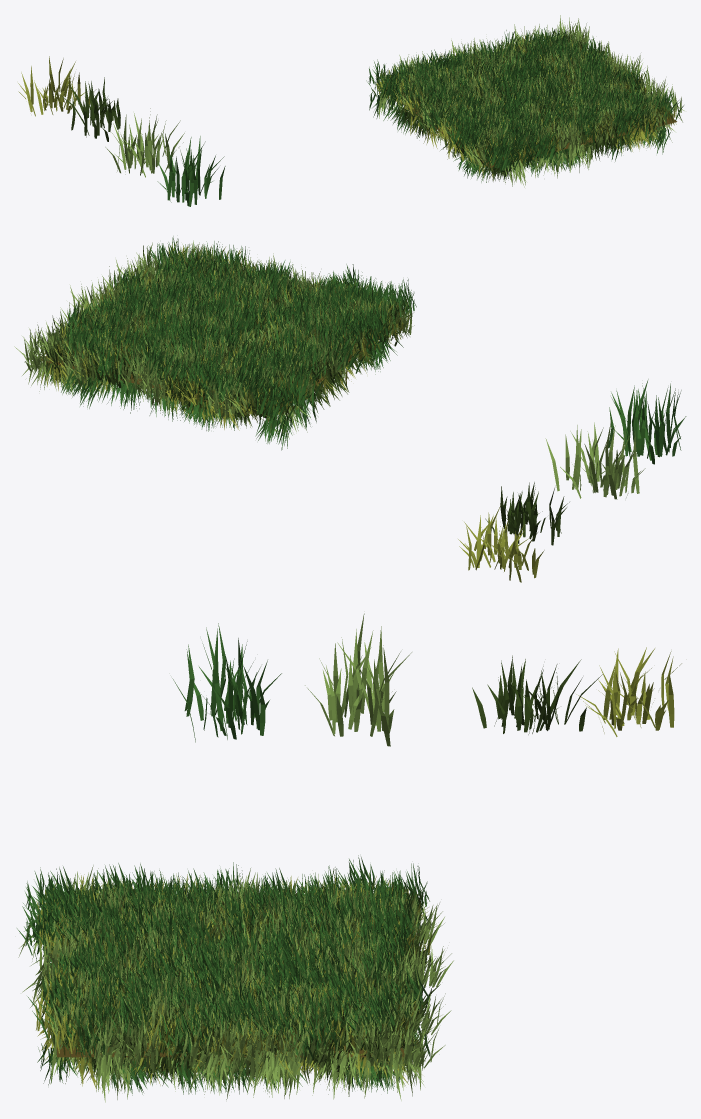
File: Grass 3.fbx
The picture shows the model from 3 angles, top to bottom: view 1: azimuth 30°, elevation 25°; view 2: azimuth 150°, elevation 25°; view 3: azimuth 270°, elevation 25°; orthographic projection. The views are drawn at different scales.
Visible parts, largest first — view 1: Gras 2, Gras 1, Gras 3, Gras 4, Floor|Gras 2|Dupli|249, Floor|Gras 1|Dupli|860, Floor|Gras 1|Dupli|1052, Floor|Gras 2|Dupli|225, Floor|Gras 1|Dupli|492, Floor|Gras 1|Dupli|1020, Floor|Gras 1|Dupli|272, Floor|Gras 1|Dupli|228 (+9 smaller); view 2: Gras 2, Gras 1, Gras 4, Gras 3, Floor|Gras 1|Dupli|, Floor|Gras 1|Dupli|764, Floor|Gras 2|Dupli|721, Floor|Gras 2|Dupli|781, Floor|Gras 1|Dupli|60, Floor|Gras 1|Dupli|412, Floor|Gras 2|Dupli|717, Floor|Gras 1|Dupli|492 (+1 smaller); view 3: Gras 2, Gras 1, Gras 3, Gras 4, Floor|Gras 2|Dupli|721, Floor|Gras 2|Dupli|373, Floor|Gras 2|Dupli|165, Floor|Gras 2|Dupli|737, Floor|Gras 2|Dupli|689, Floor|Gras 2|Dupli|665, Floor|Gras 2|Dupli|141, Floor|Gras 2|Dupli|153 (+7 smaller).
Part boxes in pixels (box(x1,y1,x2,y2)): Gras 2: box(105, 108, 184, 177); Gras 1: box(157, 136, 225, 206); Gras 3: box(59, 77, 120, 141); Gras 4: box(18, 56, 96, 116); Floor|Gras 2|Dupli|249: box(568, 142, 596, 172); Floor|Gras 1|Dupli|860: box(610, 108, 641, 139); Floor|Gras 1|Dupli|1052: box(488, 141, 521, 171); Floor|Gras 2|Dupli|225: box(533, 150, 569, 178); Floor|Gras 1|Dupli|492: box(377, 75, 409, 109); Floor|Gras 1|Dupli|1020: box(534, 130, 567, 160); Floor|Gras 1|Dupli|272: box(527, 132, 557, 163); Floor|Gras 1|Dupli|228: box(642, 125, 670, 154); Gras 2: box(545, 420, 645, 499); Gras 1: box(608, 379, 686, 464); Gras 4: box(458, 505, 544, 582); Gras 3: box(485, 482, 569, 545); Floor|Gras 1|Dupli|: box(255, 413, 294, 450); Floor|Gras 1|Dupli|764: box(256, 383, 297, 421); Floor|Gras 2|Dupli|721: box(14, 328, 60, 371); Floor|Gras 2|Dupli|781: box(137, 361, 173, 405); Floor|Gras 1|Dupli|60: box(59, 369, 101, 408); Floor|Gras 1|Dupli|412: box(326, 333, 367, 373); Floor|Gras 2|Dupli|717: box(117, 355, 157, 394); Floor|Gras 1|Dupli|492: box(288, 371, 319, 406); Gras 2: box(305, 613, 411, 746); Gras 1: box(172, 623, 281, 742); Gras 3: box(472, 655, 602, 734); Gras 4: box(576, 647, 681, 736); Floor|Gras 2|Dupli|721: box(378, 1019, 445, 1068); Floor|Gras 2|Dupli|373: box(346, 1015, 394, 1071); Floor|Gras 2|Dupli|165: box(330, 1048, 379, 1099); Floor|Gras 2|Dupli|737: box(220, 1024, 261, 1078); Floor|Gras 2|Dupli|689: box(79, 1020, 144, 1069); Floor|Gras 2|Dupli|665: box(163, 1020, 227, 1069); Floor|Gras 2|Dupli|141: box(94, 1052, 135, 1102); Floor|Gras 2|Dupli|153: box(189, 1051, 251, 1099).
Bounding box in the file's own units: 2794 × 436 × 1980.
